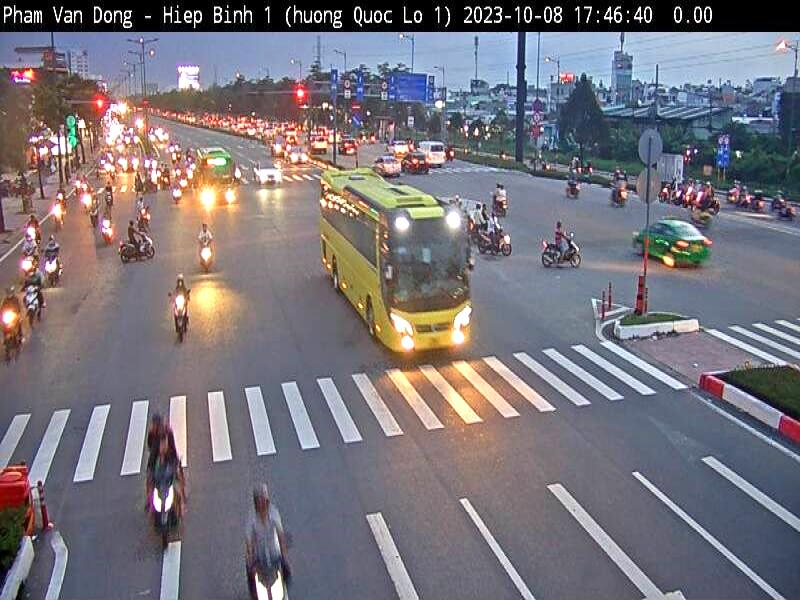bus: (308, 162, 475, 363), (195, 148, 241, 205)
car: (631, 217, 712, 278), (252, 160, 282, 186), (422, 140, 447, 167), (375, 156, 401, 178), (401, 155, 427, 172), (287, 149, 309, 164)
motorcycle: (145, 468, 187, 554), (240, 548, 305, 600), (544, 239, 590, 272), (162, 302, 200, 341), (0, 313, 28, 362), (115, 234, 159, 259), (477, 231, 520, 255), (24, 287, 45, 325), (201, 235, 216, 272)
